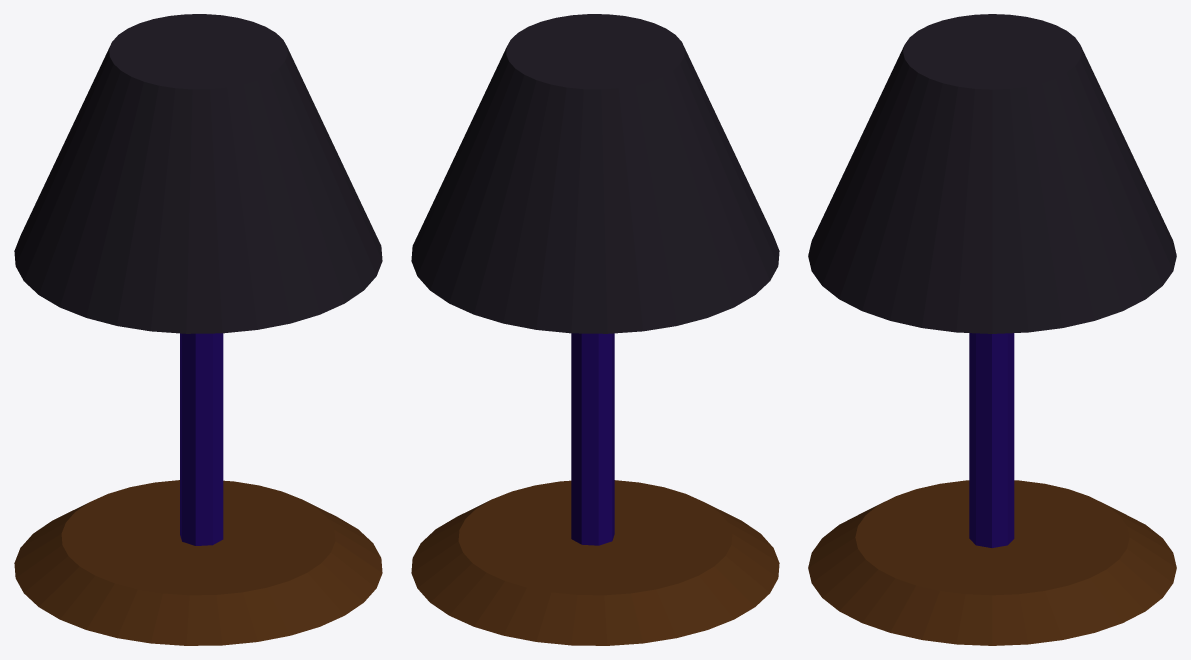
Rendered from Lamp.fbx.
3 views of the same model, side by side, from view 1: azimuth 30°, elevation 25°; view 2: azimuth 150°, elevation 25°; view 3: azimuth 270°, elevation 25° (orthographic).
Visible parts, largest first — view 1: Lamp; view 2: Lamp; view 3: Lamp.
Boxes of the visible parts, x1,y1,x2,y2 form: Lamp: (14,14,382,645); Lamp: (411,14,779,645); Lamp: (808,14,1176,645).
Size of the model in its own units: 0.1802 by 0.2783 by 0.1802.
